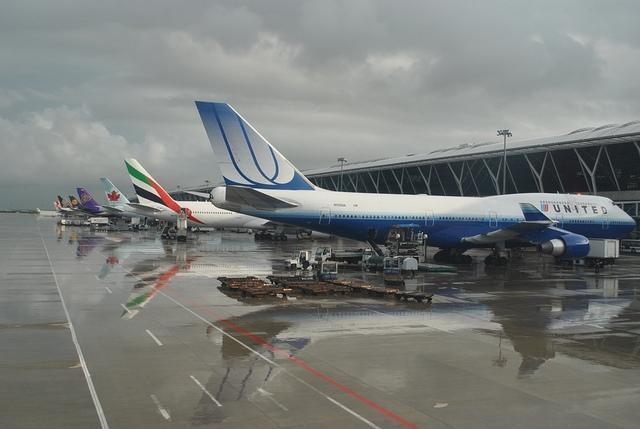truck: (317, 260, 436, 304), (586, 239, 619, 269)
